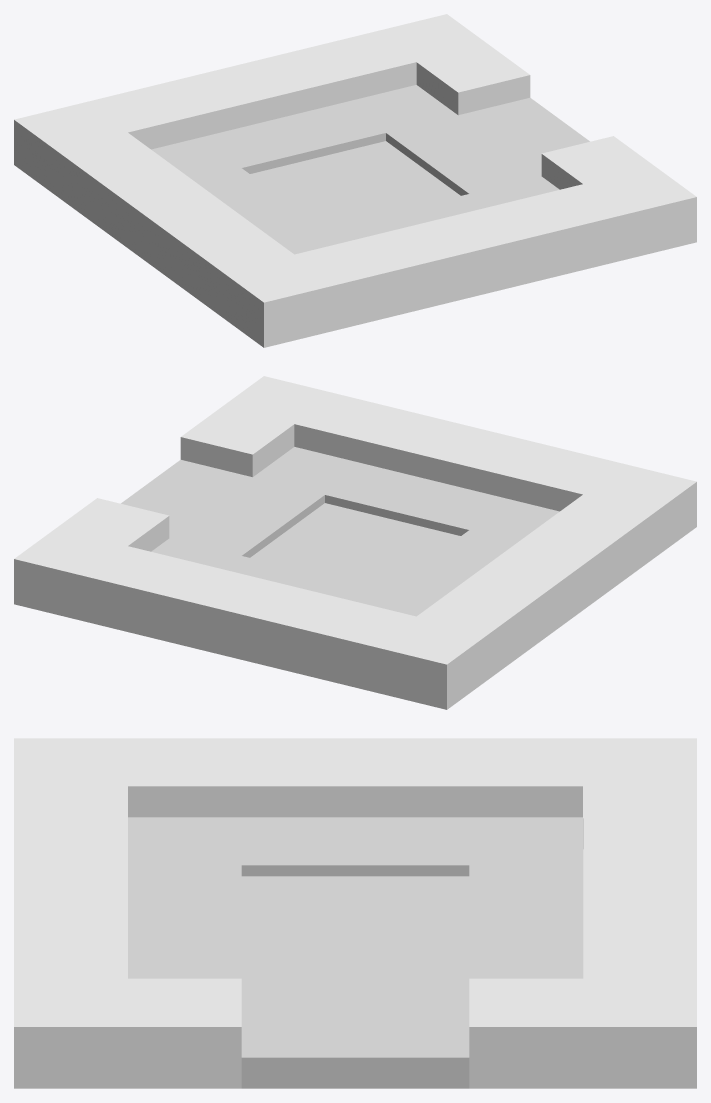
Rendered from ForestRiverEnd.fbx.
3 views of the same model, one above another, from view 1: azimuth 30°, elevation 25°; view 2: azimuth 150°, elevation 25°; view 3: azimuth 270°, elevation 25° (orthographic). The views are drawn at different scales.
Parts seen in each view (by area): view 1: ForestEnd; view 2: ForestEnd; view 3: ForestEnd.
Part boxes in pixels (x1,y1,x2,y2): ForestEnd: [14, 14, 696, 347]; ForestEnd: [14, 376, 696, 709]; ForestEnd: [14, 738, 696, 1088].
Size of the model in its own units: 100 by 10 by 100.
